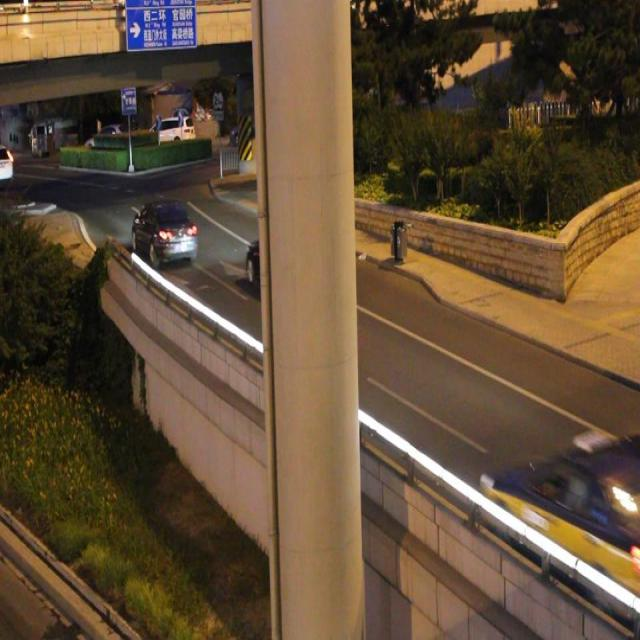car: (484, 430, 640, 601), (247, 216, 333, 304), (133, 198, 197, 267)
